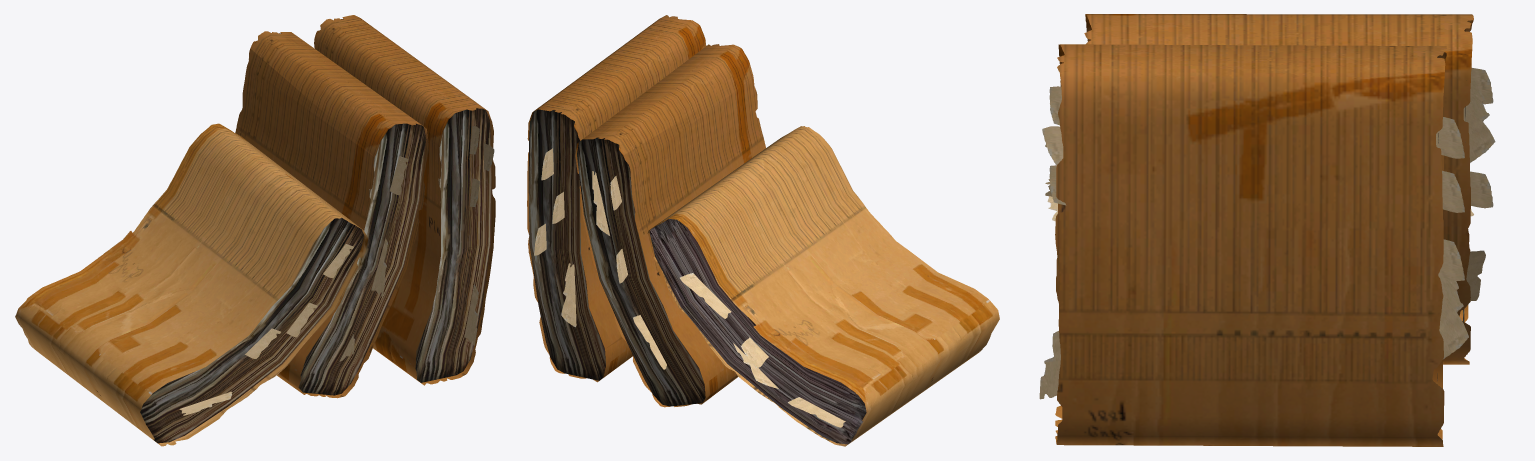
File: decor_paperstack_side2.obj
The picture shows the model from 3 angles, left to right: view 1: azimuth 30°, elevation 25°; view 2: azimuth 150°, elevation 25°; view 3: azimuth 270°, elevation 25°; orthographic projection. The views are drawn at different scales.
Parts seen in each view (by area): view 1: decor_paperstack_side2; view 2: decor_paperstack_side2; view 3: decor_paperstack_side2.
Boxes of the visible parts, box(x1,y1,x2,y2) form: decor_paperstack_side2: box(15, 15, 495, 446); decor_paperstack_side2: box(527, 15, 999, 446); decor_paperstack_side2: box(1039, 14, 1495, 446).
Bounding box in the file's own units: 49.63 × 35.77 × 40.01.
1 material, 1 textured.
